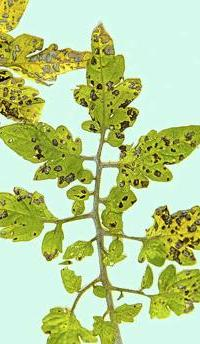Tomato Septoria leaf spot: (74, 7, 148, 151), (0, 0, 105, 95), (0, 100, 93, 196), (0, 167, 75, 262), (112, 123, 200, 194), (134, 202, 200, 268), (144, 262, 200, 327), (34, 293, 99, 344), (0, 58, 49, 122)
